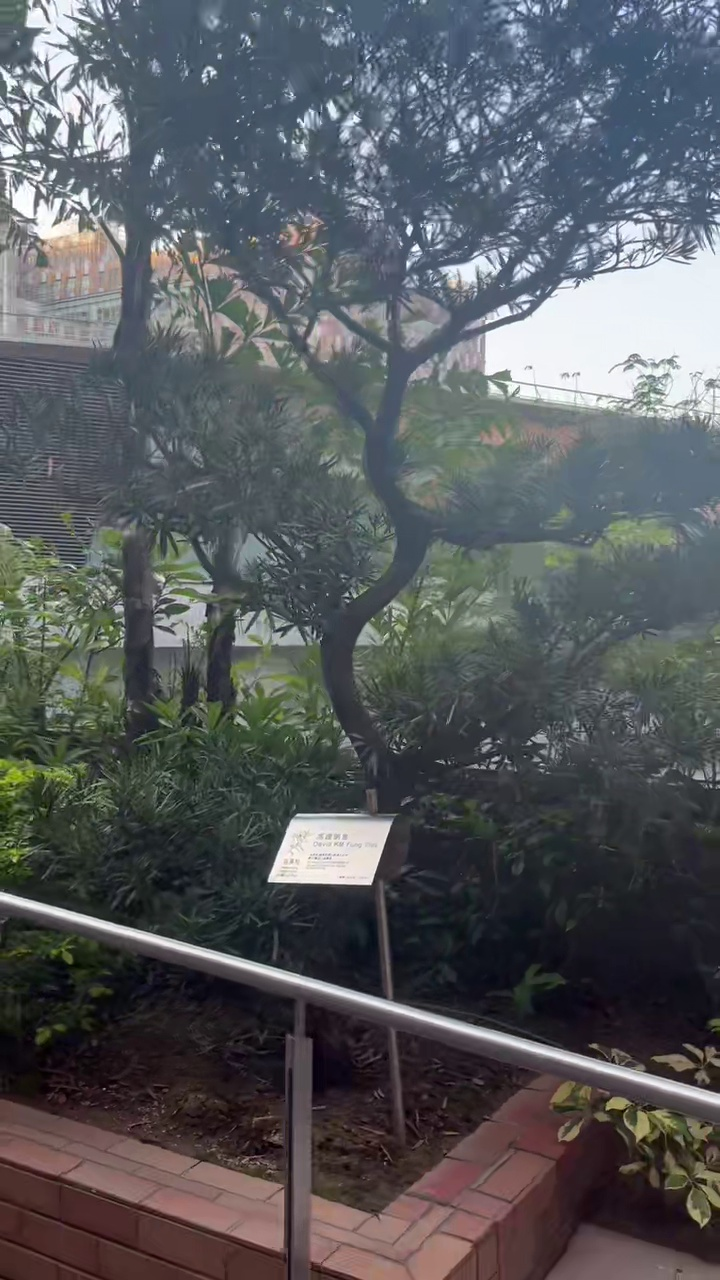Podocarpus macrophyllus: (61, 0, 719, 798)
